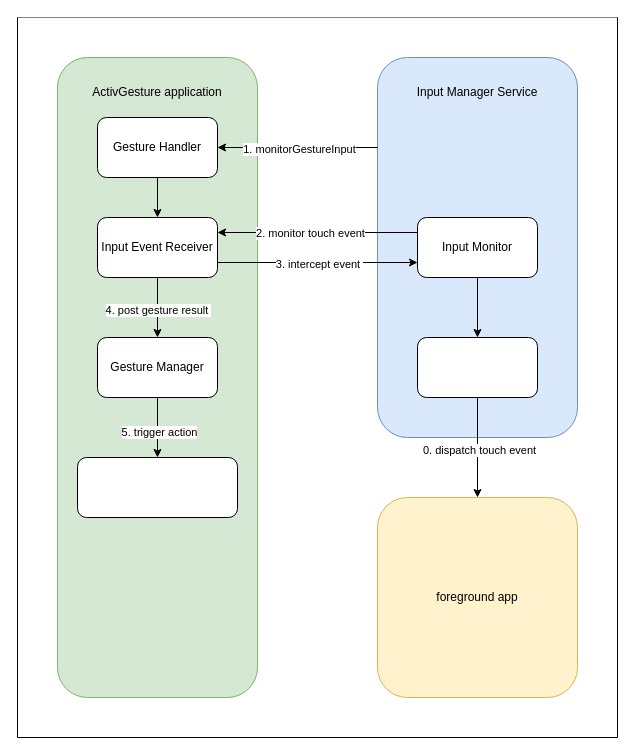
Some shapes in this 635 by 755 pixel diagram are drawn without their labels. Here are the shapes that lost their labels. From the top down, the centre of each, then its label:
the point at 477,367: Input Dispatcher
the point at 157,487: switch sources show running apps show all apps capture screen
